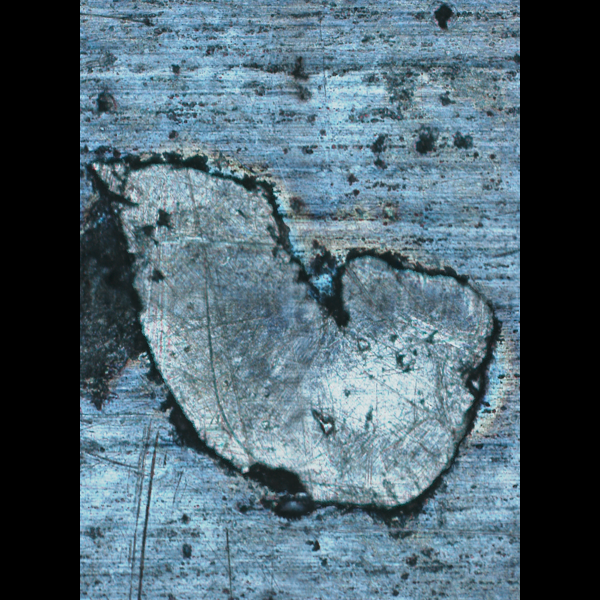d: (87, 144, 501, 524)
